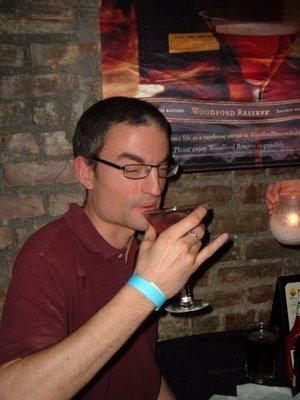person: (1, 96, 231, 398)
